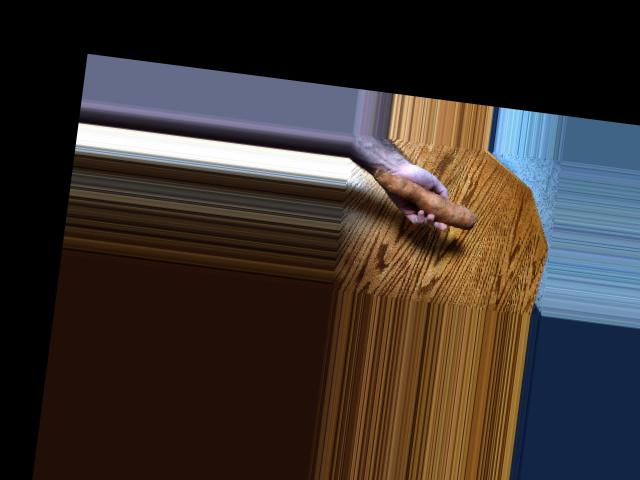sweet_potato: (370, 168, 482, 232)
